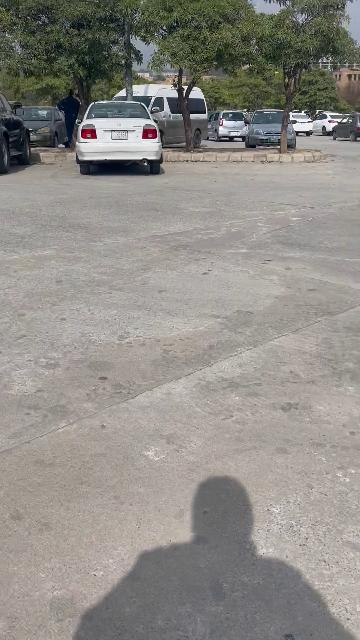plate: (111, 130, 128, 140)
